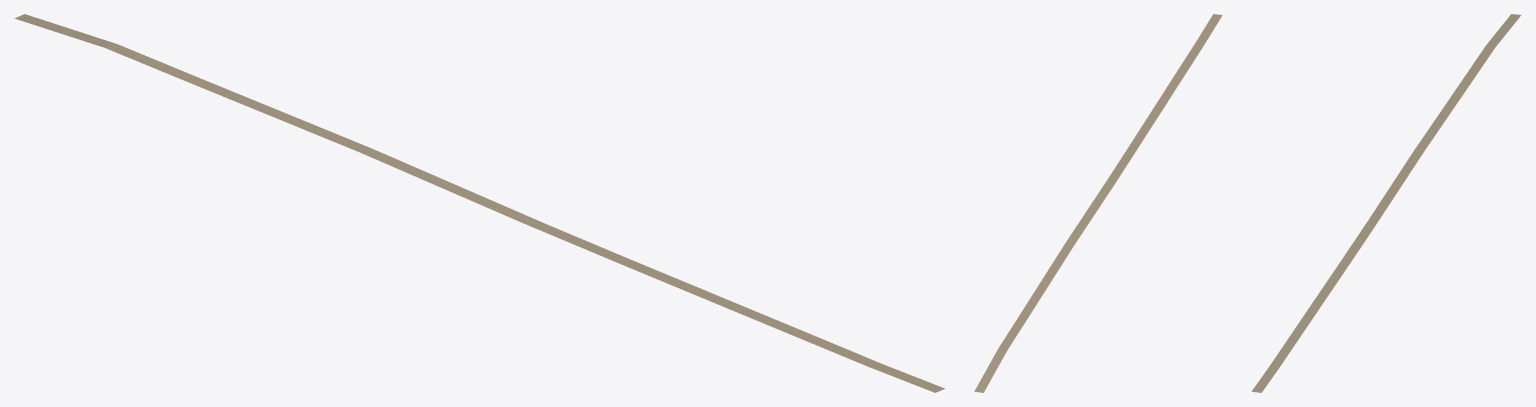
The model's file is farm_-5_11_track.glb.
3 renders of one model, left to right at view 1: azimuth 30°, elevation 25°; view 2: azimuth 150°, elevation 25°; view 3: azimuth 330°, elevation 25°, orthographic. The views are drawn at different scales.
Parts seen in each view (by area): view 1: geometry_0; view 2: geometry_0; view 3: geometry_0.
Part boxes in pixels (<box>): geometry_0: <box>14,14,944,392</box>; geometry_0: <box>974,14,1222,392</box>; geometry_0: <box>1251,14,1521,392</box>.
Bounding box in the file's own units: 77.63 × 5.63 × 290.
